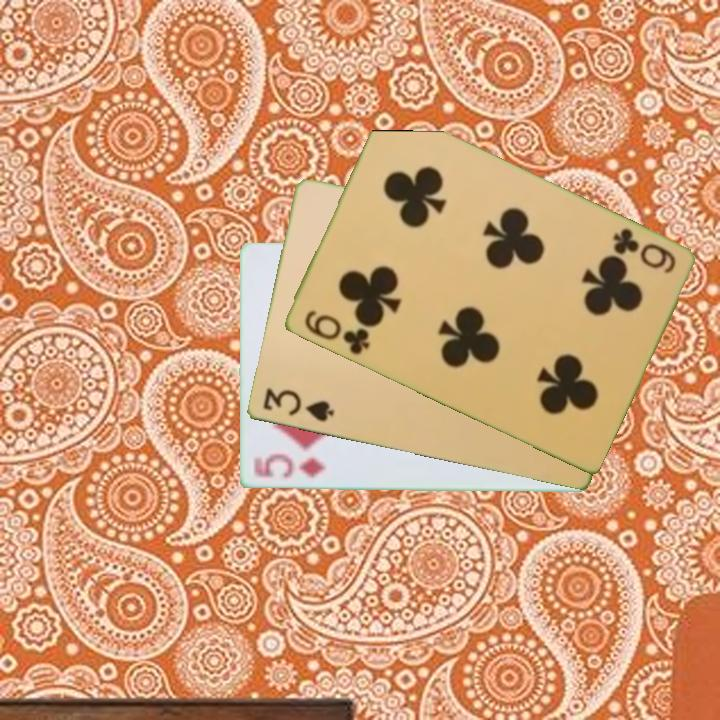3s: (259, 384, 337, 425)
5d: (249, 452, 329, 482)
6c: (608, 224, 679, 277), (300, 307, 372, 358)
